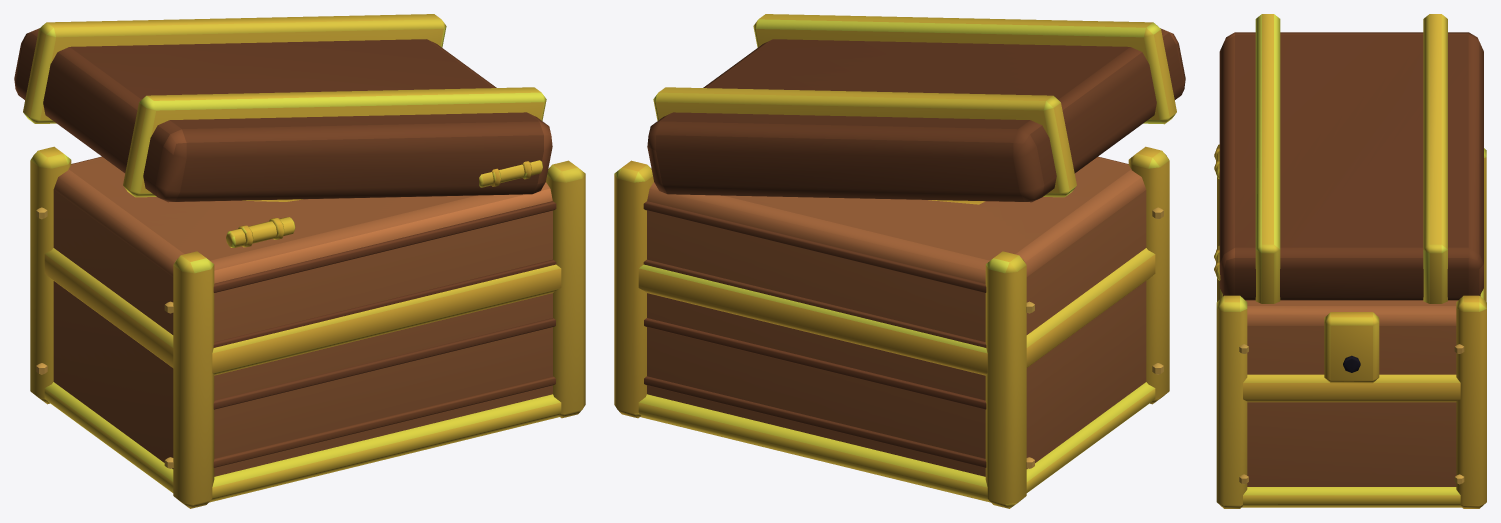
Rendered from SM_Item_TreasureChest.fbx.
3 views of the same model, side by side, from view 1: azimuth 30°, elevation 25°; view 2: azimuth 150°, elevation 25°; view 3: azimuth 270°, elevation 25° (orthographic). The views are drawn at different scales.
Visible parts, largest first — view 1: SM_Item_TreasureChest; view 2: SM_Item_TreasureChest; view 3: SM_Item_TreasureChest.
Part boxes in pixels (bbox=[...]): SM_Item_TreasureChest: bbox=[14, 14, 585, 508]; SM_Item_TreasureChest: bbox=[614, 14, 1185, 508]; SM_Item_TreasureChest: bbox=[1214, 14, 1486, 508].
Size of the model in its own units: 72.27 by 60.97 by 45.55.
